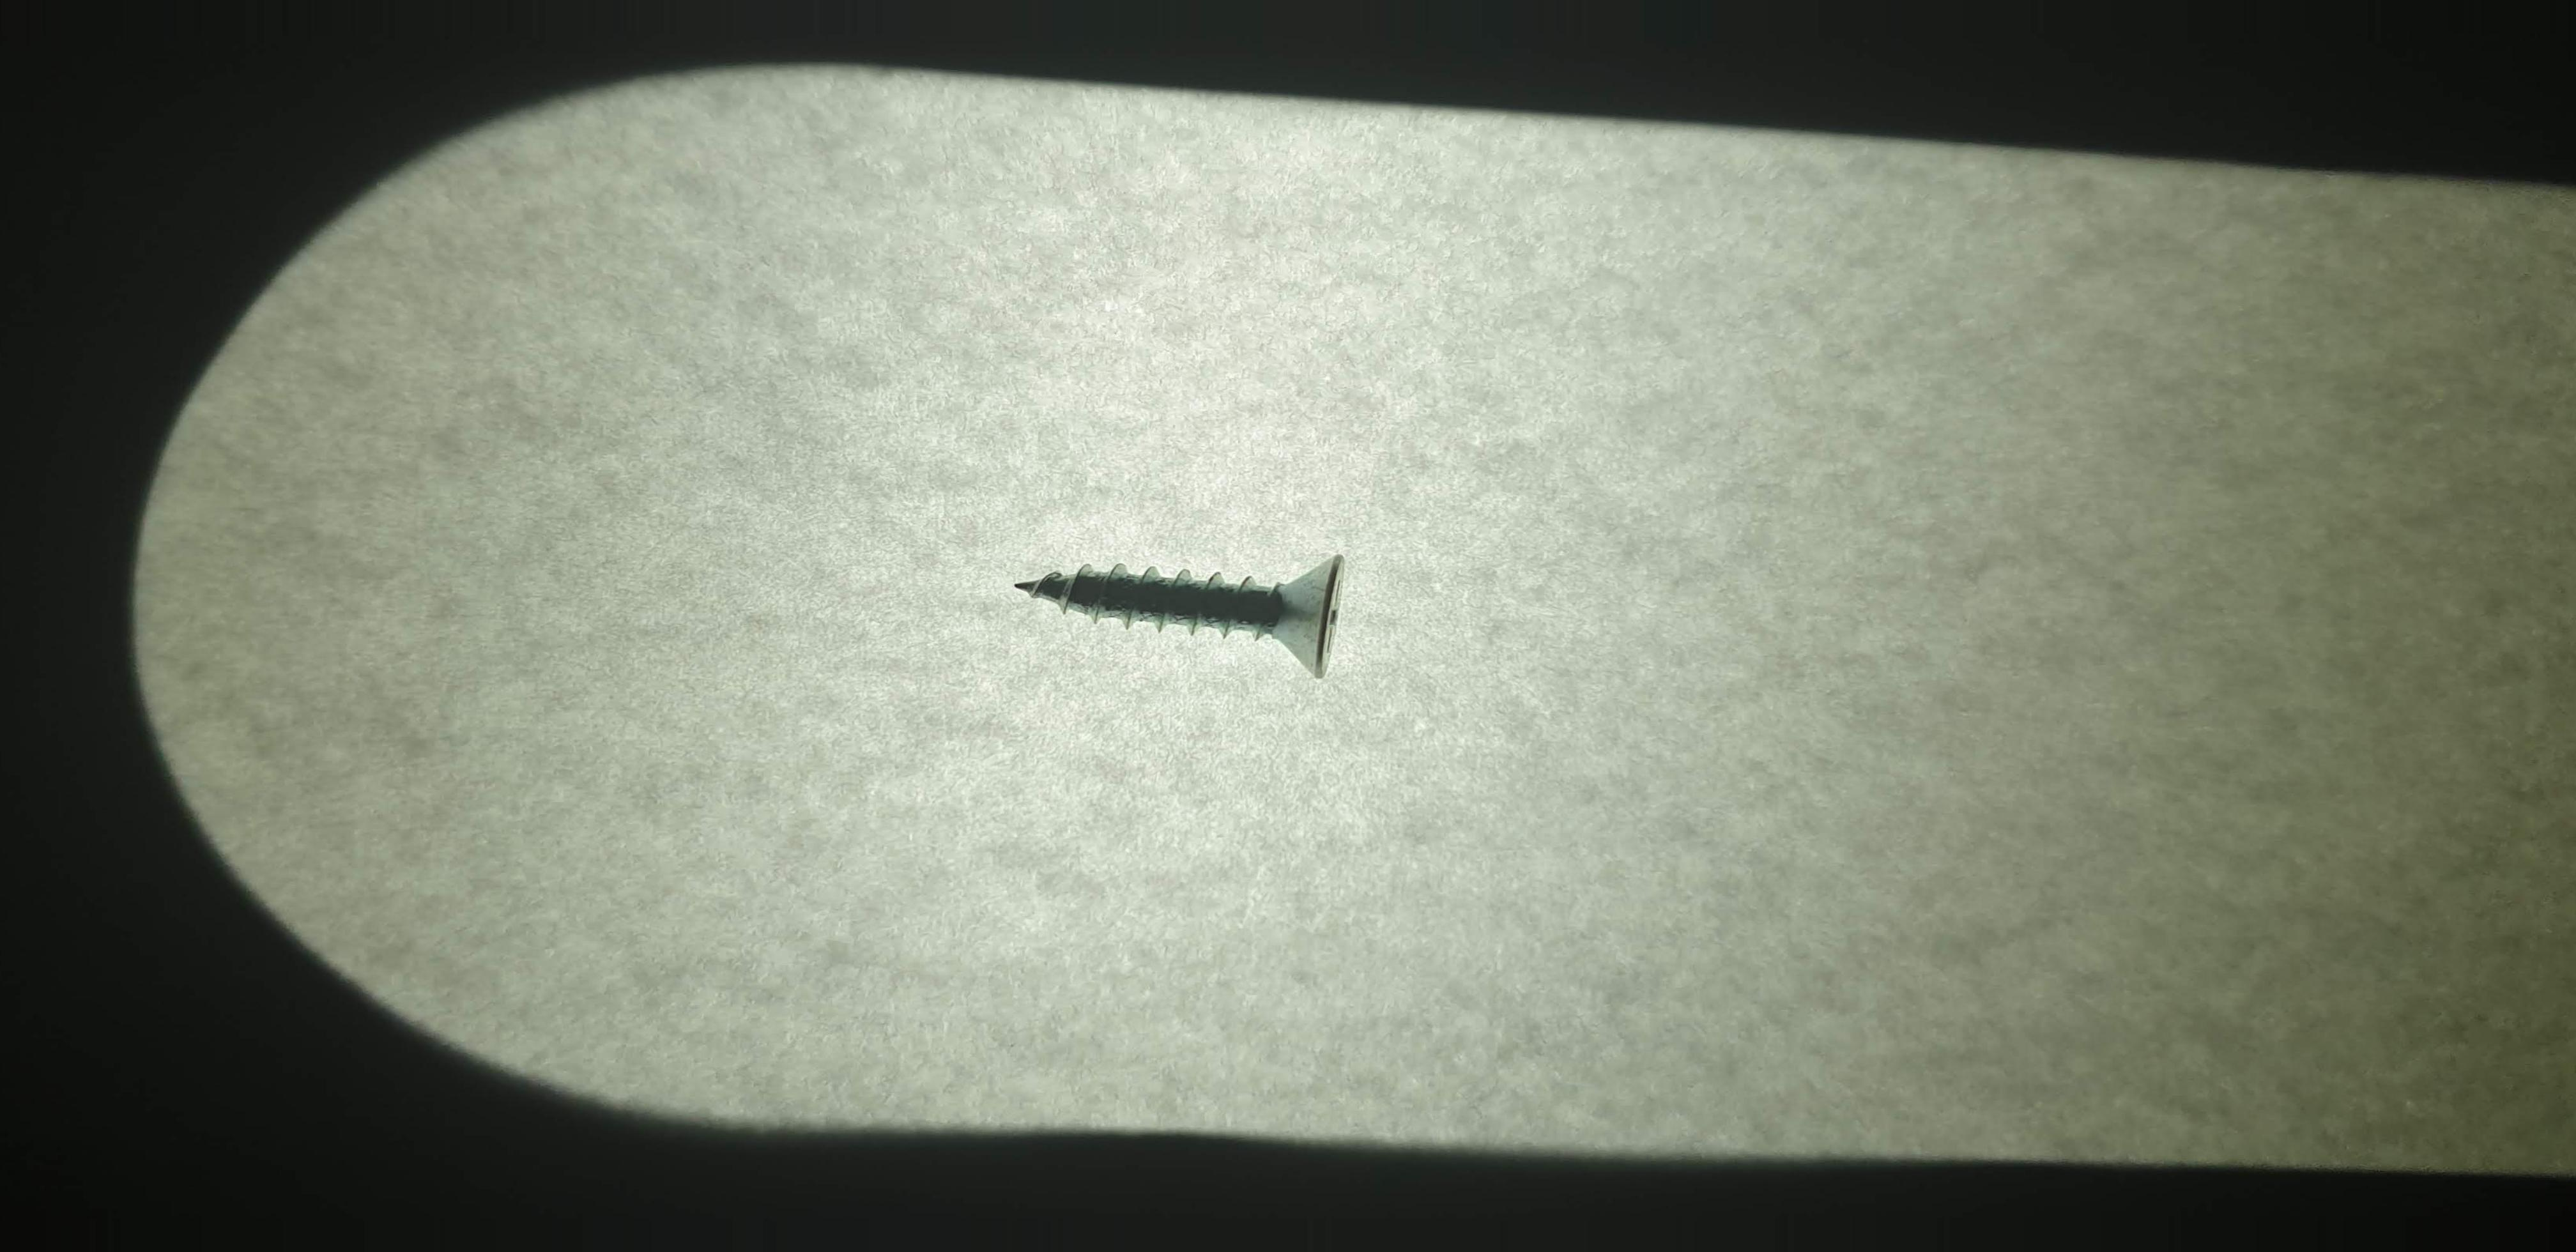S003: (984, 519, 1398, 707)
